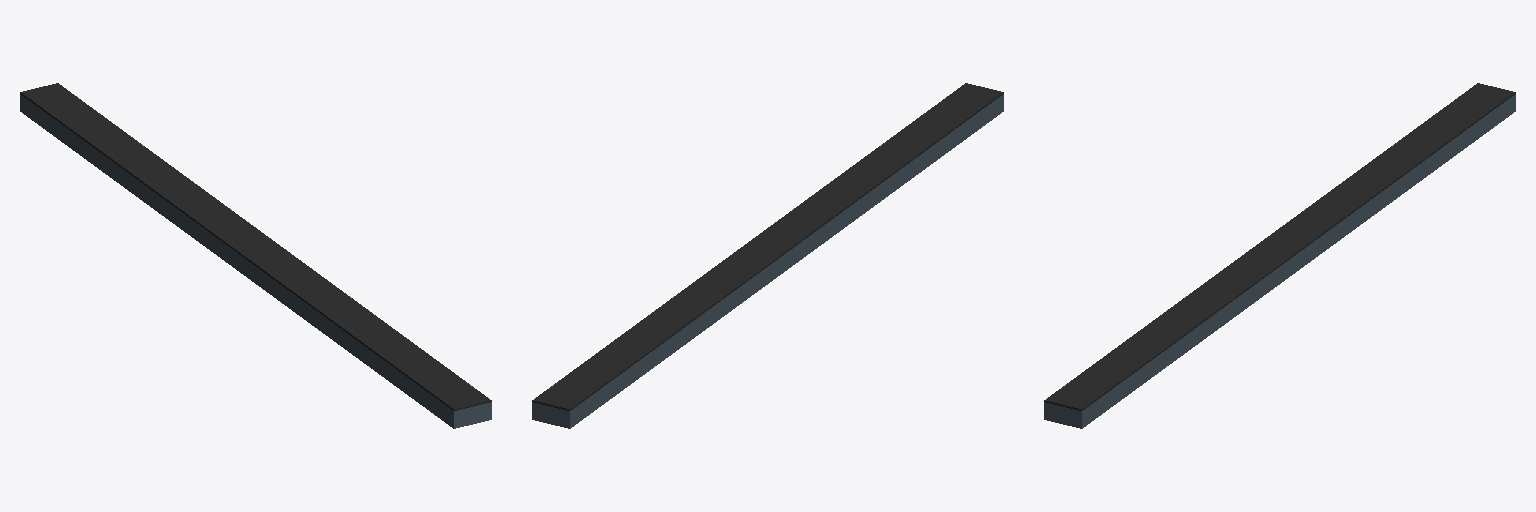
URDF robot description (plank):
<?xml version="0.0" ?>
<robot name="plank">
    <link name="base">
        <contact>
            <lateral_friction value="0.8"/>
        </contact>
        <inertial>
            <origin rpy="0 0 0" xyz="0 0 -0.275"/>
            <mass value="0"/>
            <inertia ixx="1" ixy="0" ixz="0" iyy="1" iyz="0" izz="1"/>
        </inertial>
        <visual>
            <origin rpy="0 0 0" xyz="0 0 -0.275"/>
            <geometry>
                <box size="1 20 0.45"/>
            </geometry>
            <material name="grey">
                <color rgba="0.345 0.388 0.431 1"/>
            </material>
        </visual>
        <collision>
            <origin rpy="0 0 0" xyz="0 0 -0.275"/>
            <geometry>
                <box size="1 20 0.45"/>
            </geometry>
        </collision>
    </link>
    <link name="cover">
        <contact>
            <lateral_friction value="0.8"/>
        </contact>
        <inertial>
            <origin rpy="0 0 0" xyz="0 0 -0.025"/>
            <mass value="0"/>
            <inertia ixx="1" ixy="0" ixz="0" iyy="1" iyz="0" izz="1"/>
        </inertial>
        <visual>
            <origin rpy="0 0 0" xyz="0 0 -0.025"/>
            <geometry>
                <box size="1 20 0.05"/>
            </geometry>
            <material name="black">
                <color rgba="0.216 0.216 0.216 1"/>
            </material>
        </visual>
        <collision>
            <origin rpy="0 0 0" xyz="0 0 -0.025"/>
            <geometry>
                <box size="1 20 0.05"/>
            </geometry>
        </collision>
    </link>
    <joint name="base" type="fixed">
        <origin rpy="0 0 0" xyz="0 0 0"/>
        <parent link="base"/>
        <child link="cover"/>
    </joint>
</robot>

--- Facts derived from the render (not from the file) ---
Views: 3 orthographic renders of the robot side by side, from view 1: azimuth 30°, elevation 25°; view 2: azimuth 150°, elevation 25°; view 3: azimuth 330°, elevation 25°.
Model plank with 2 links and 1 joints (1 fixed), rooted at base, posed all joints at 0.
Links seen in each view (by area): view 1: cover, base; view 2: cover, base; view 3: cover, base.
Boxes of the visible links, x1,y1,x2,y2 form: cover: (20, 83, 491, 410); base: (20, 94, 491, 428); cover: (532, 83, 1003, 410); base: (532, 94, 1003, 428); cover: (1044, 83, 1515, 410); base: (1044, 94, 1515, 428).
Bounding box of the posed robot: 1 × 20 × 0.5 m (x, y, z).
Geometry: primitives only (box / cylinder / sphere), no mesh files.